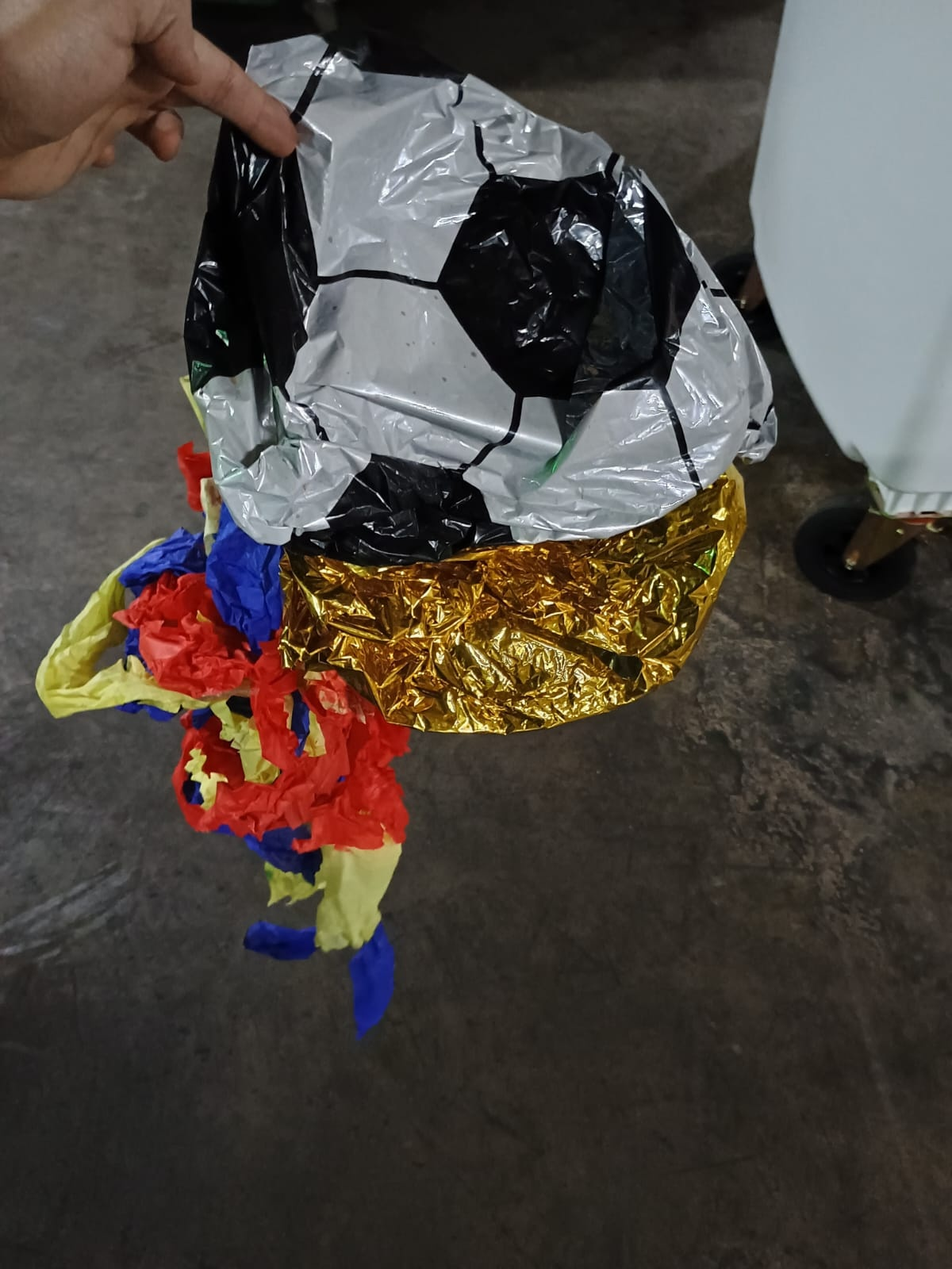Ordinario: (30, 35, 781, 1037)
